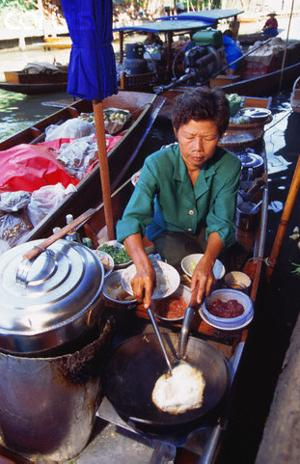person: (119, 92, 243, 312)
